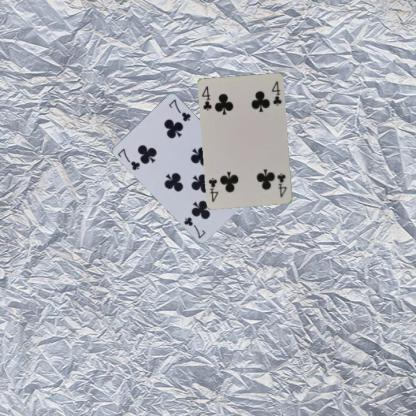4c: (200, 84, 214, 112), (274, 171, 288, 198)
7c: (116, 146, 142, 172)
